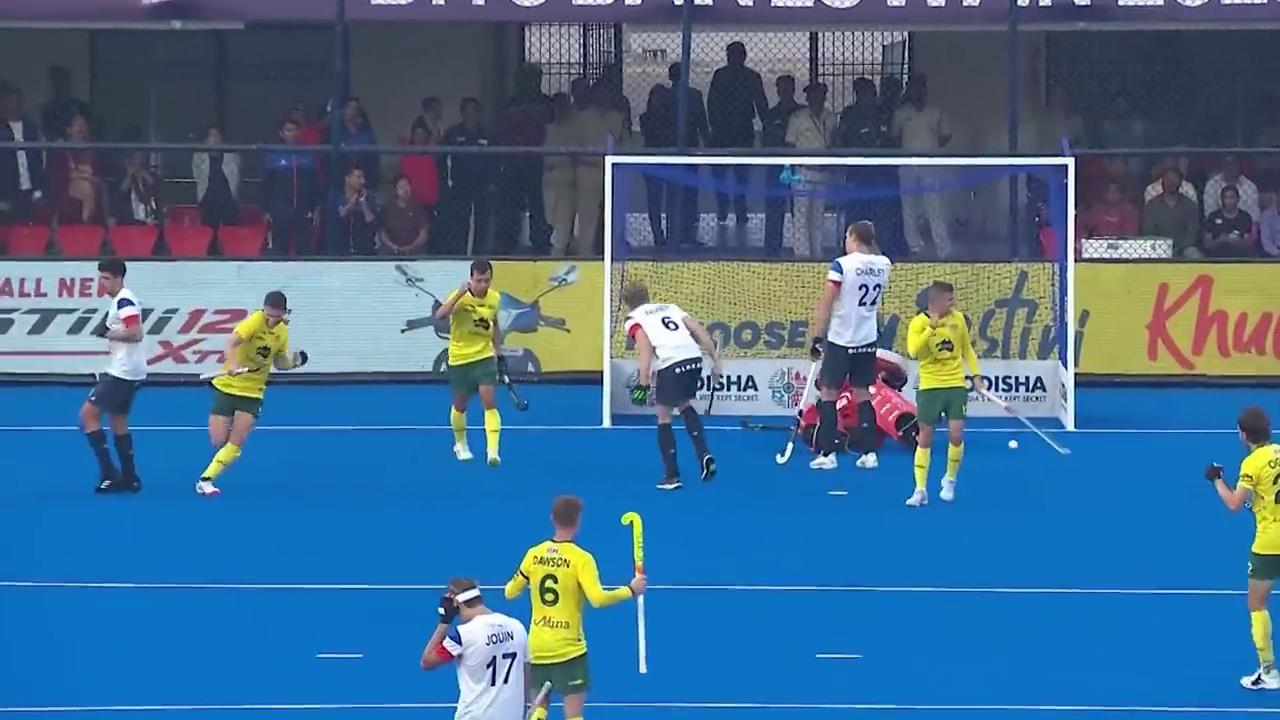ball: (1000, 434, 1023, 456)
